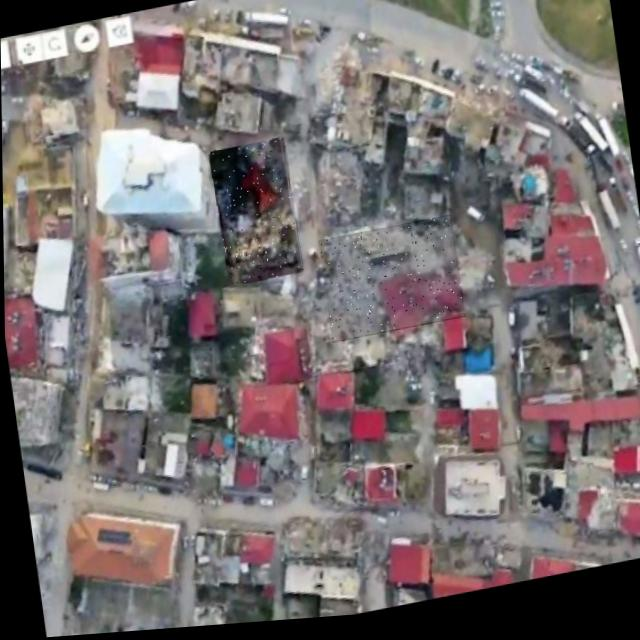Rubble: (317, 219, 464, 348), (209, 139, 303, 290)
